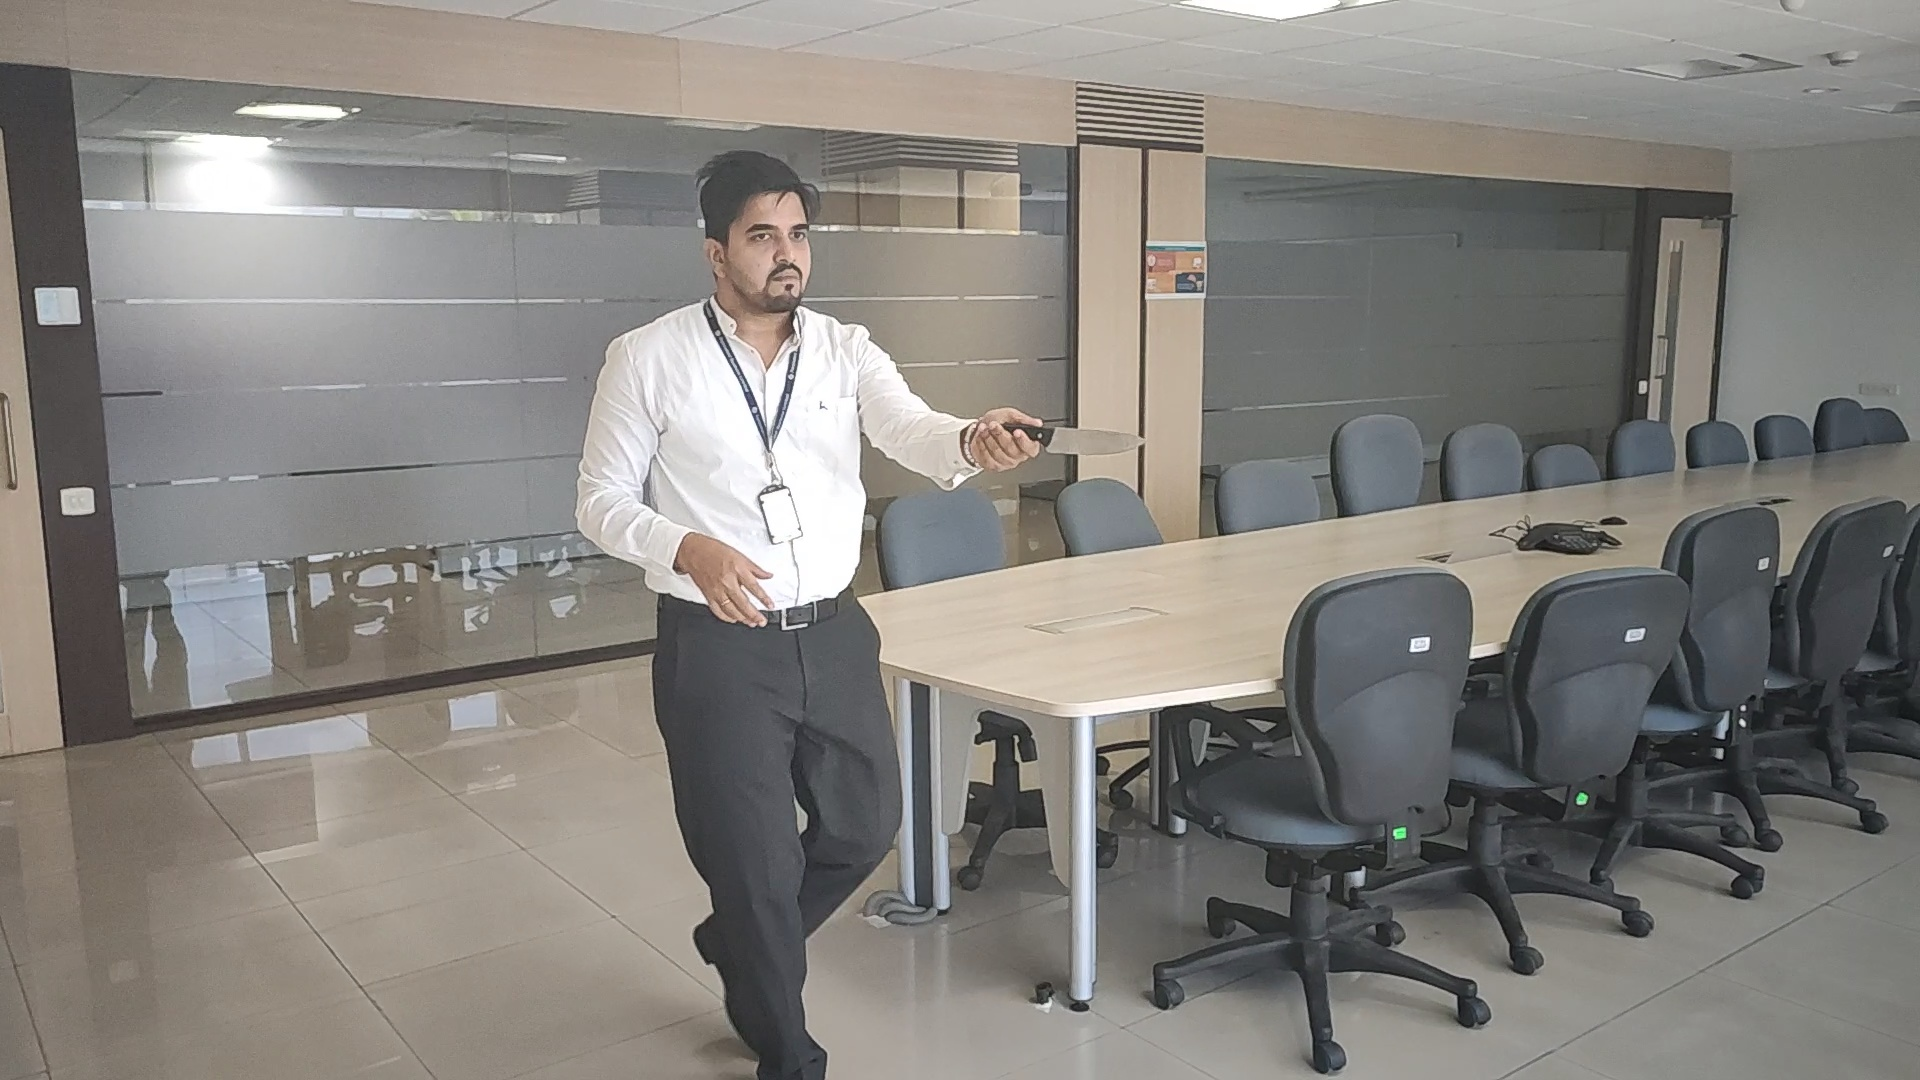knife: (1044, 426, 1149, 456)
